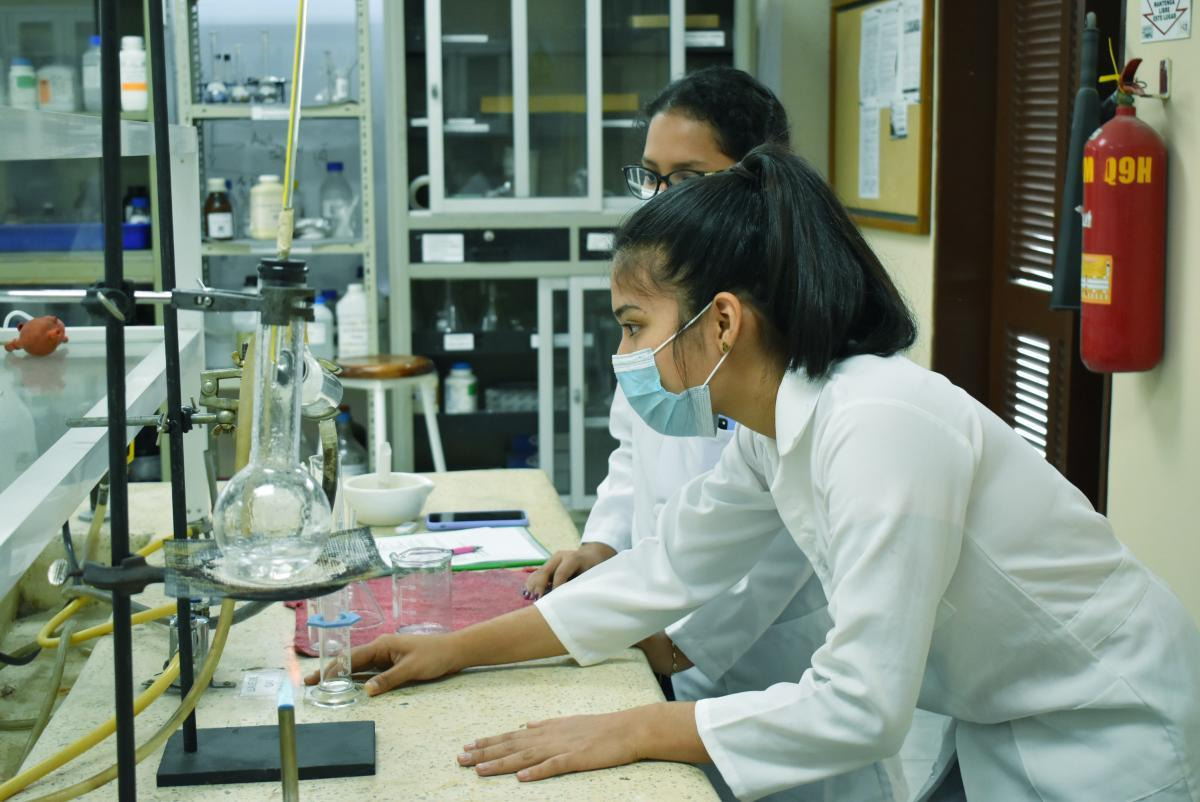Bata-Correcta: (542, 148, 1200, 802)
